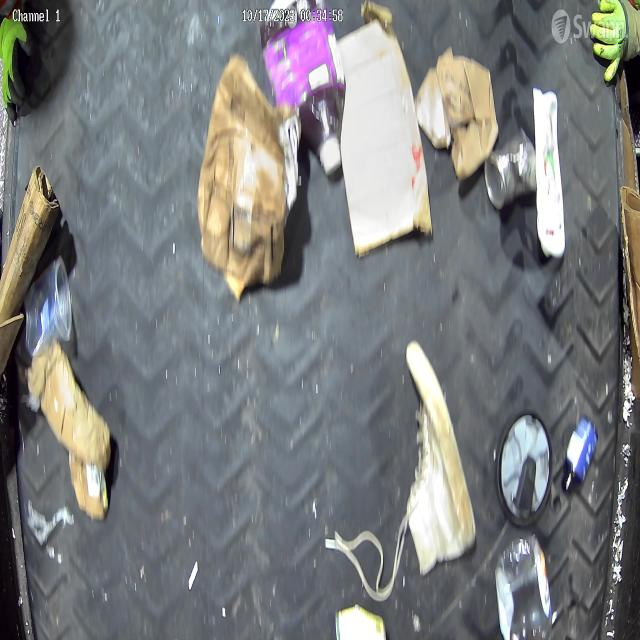can: (483, 132, 537, 211)
